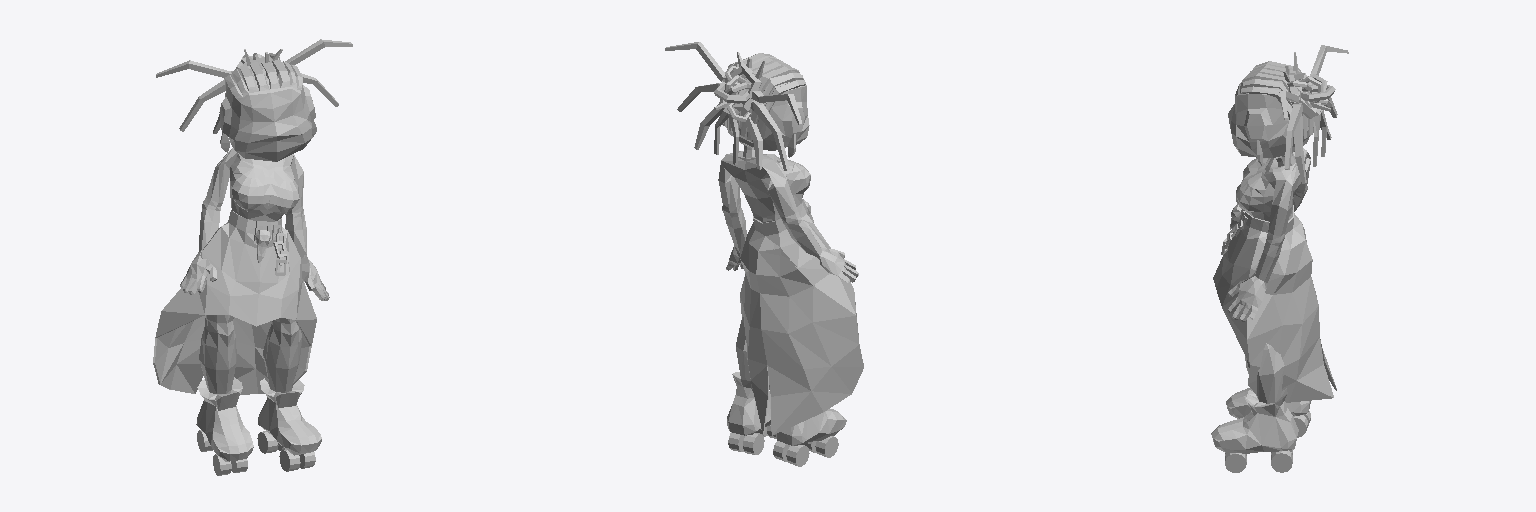
The model's file is bruja_000044.obj.
3 views of the same model, side by side, from view 1: azimuth 30°, elevation 25°; view 2: azimuth 150°, elevation 25°; view 3: azimuth 270°, elevation 25° (orthographic).
Visible parts, largest first — view 1: Bruja_Plane.001; view 2: Bruja_Plane.001; view 3: Bruja_Plane.001.
Part boxes in pixels (x1,y1,x2,y2): Bruja_Plane.001: (153, 39, 352, 475); Bruja_Plane.001: (665, 42, 863, 466); Bruja_Plane.001: (1211, 45, 1348, 472).
Bounding box in the file's own units: 8.48 × 16.41 × 5.07.